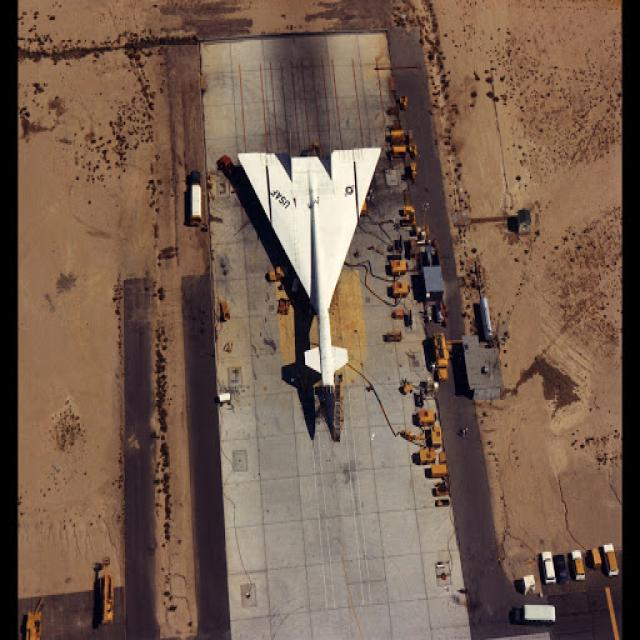MIL_Plane: (236, 145, 382, 442)
